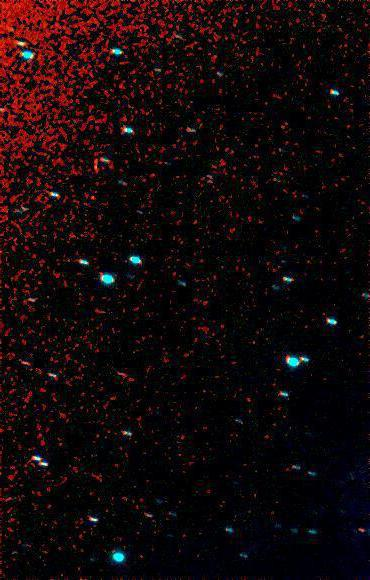star: (344, 516, 370, 546)
